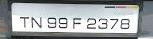2: (85, 16, 96, 28)
3: (97, 17, 107, 29)
7: (108, 16, 118, 29)
8: (119, 17, 130, 29)
9: (56, 16, 68, 28), (46, 16, 56, 28)
F: (70, 15, 82, 29)
N: (30, 15, 42, 28)
T: (17, 14, 29, 28)
